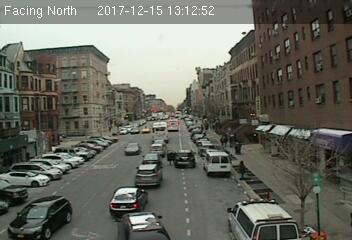bus: (150, 122, 170, 143)
car: (7, 195, 72, 240), (117, 212, 171, 240), (110, 185, 149, 216), (202, 149, 234, 178), (135, 164, 163, 186), (172, 150, 198, 168), (123, 142, 142, 156), (140, 153, 163, 164)
pedestrian: (237, 160, 247, 180)
police: (226, 195, 300, 240)
truck: (167, 119, 179, 132)
